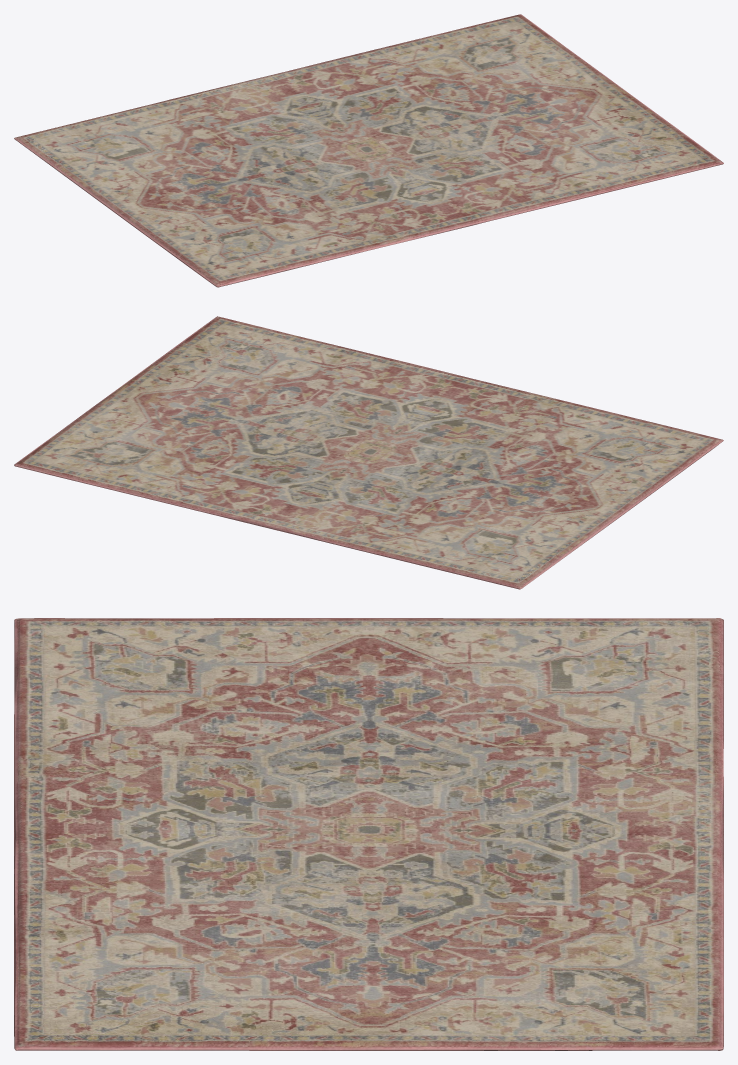
The model's file is jarnvag_dywan_z_krotkim_wosiem_20595698.glb.
The picture shows the model from 3 angles, top to bottom: view 1: azimuth 30°, elevation 25°; view 2: azimuth 150°, elevation 25°; view 3: azimuth 270°, elevation 25°; orthographic projection. The views are drawn at different scales.
Visible parts, largest first — view 1: jarnvag_dywan_z_krotkim_wosiem_20595698; view 2: jarnvag_dywan_z_krotkim_wosiem_20595698; view 3: jarnvag_dywan_z_krotkim_wosiem_20595698.
Part boxes in pixels (box(x1,y1,x2,y2)): jarnvag_dywan_z_krotkim_wosiem_20595698: box(14, 14, 723, 287); jarnvag_dywan_z_krotkim_wosiem_20595698: box(14, 316, 723, 589); jarnvag_dywan_z_krotkim_wosiem_20595698: box(14, 618, 723, 1050).
Bounding box in the file's own units: 2.3 × 0.0116 × 1.6.
Materials: 1 (1 with a texture image).
